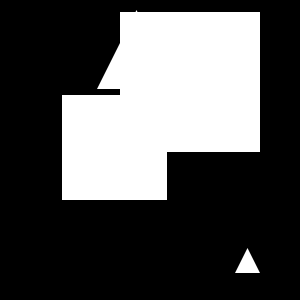circle: (120, 12, 260, 152), (62, 95, 167, 200)
triangle: (97, 10, 176, 89), (184, 32, 229, 77), (235, 248, 260, 273)
